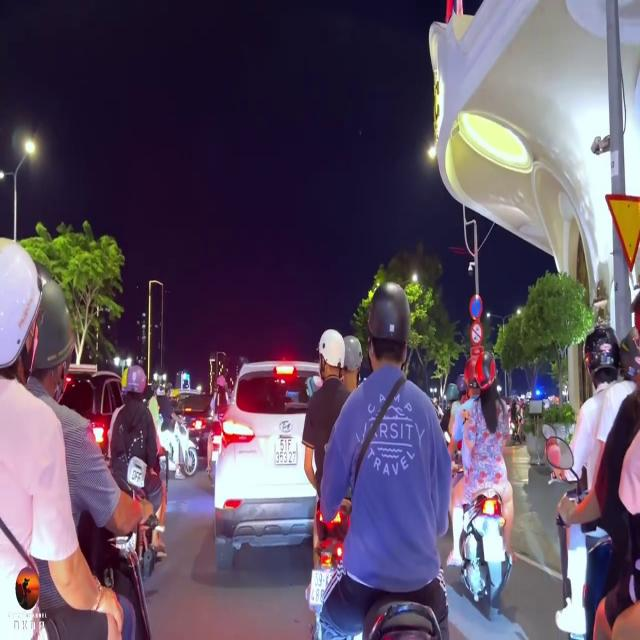bien_trang: (272, 438, 297, 466)
